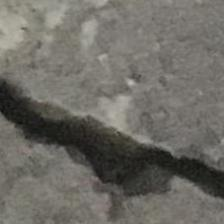Crack: (0, 27, 222, 224)
